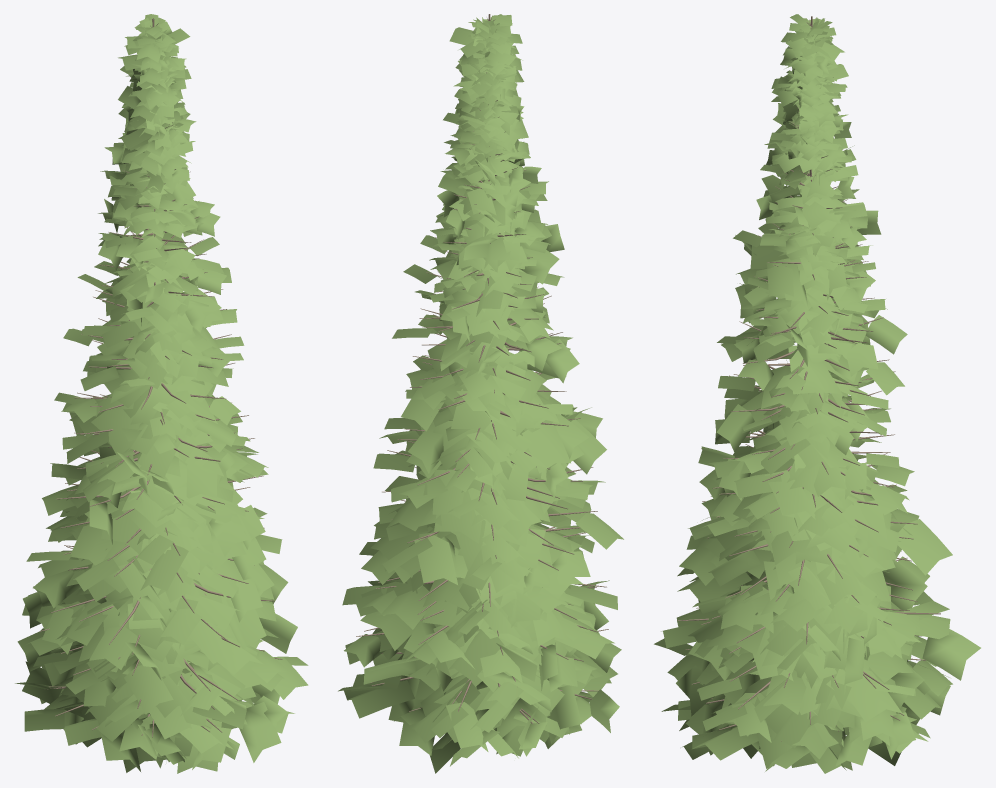
File: Conifer_12_young_lod0.glb
3 renders of one model, left to right at view 1: azimuth 30°, elevation 25°; view 2: azimuth 150°, elevation 25°; view 3: azimuth 270°, elevation 25°, orthographic.
Parts seen in each view (by area): view 1: Conifer_12_young_lod0; view 2: Conifer_12_young_lod0; view 3: Conifer_12_young_lod0.
Boxes of the visible parts, x1,y1,x2,y2 form: Conifer_12_young_lod0: (15,14,308,773); Conifer_12_young_lod0: (338,14,623,773); Conifer_12_young_lod0: (654,14,980,773).
Size of the model in its own units: 2.76 by 7.65 by 3.06.
